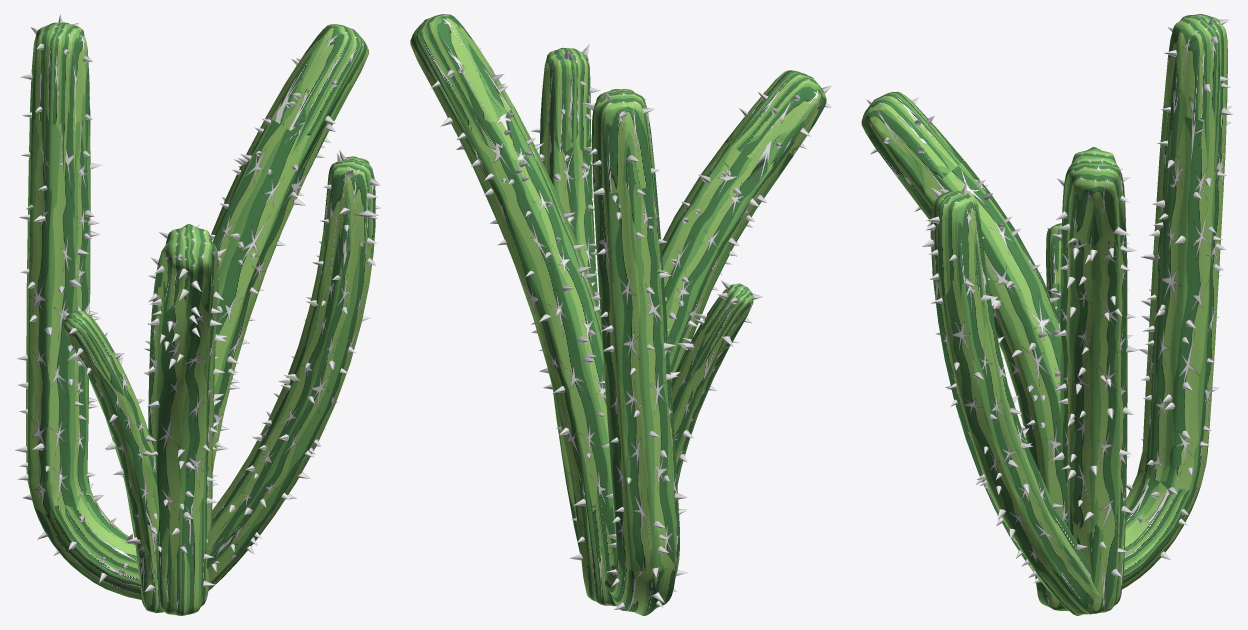
The model's file is super-cactus.glb.
3 views of the same model, side by side, from view 1: azimuth 30°, elevation 25°; view 2: azimuth 150°, elevation 25°; view 3: azimuth 270°, elevation 25° (orthographic). The views are drawn at different scales.
Parts seen in each view (by area): view 1: Trunk_10; view 2: Trunk_10; view 3: Trunk_10.
Boxes of the visible parts, x1=… form: Trunk_10: x1=26, y1=22, x2=375, y2=615; Trunk_10: x1=410, y1=14, x2=826, y2=615; Trunk_10: x1=861, y1=14, x2=1227, y2=615.
Size of the model in its own units: 3.43 by 5.71 by 3.39.
Materials: 2 (2 with a texture image).
